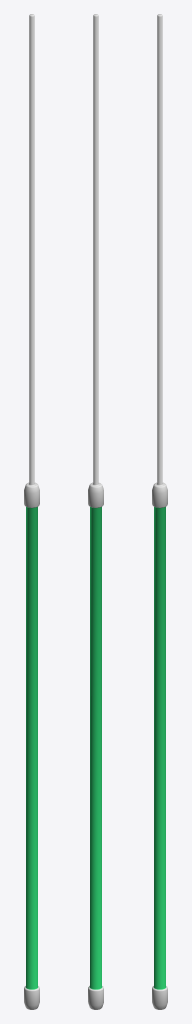
The model's file is Neon_002.fbx.
3 views of the same model, side by side, from view 1: azimuth 90°, elevation 25°; view 2: azimuth 150°, elevation 25°; view 3: azimuth 270°, elevation 25° (orthographic).
Parts seen in each view (by area): view 1: Neon_002; view 2: Neon_002; view 3: Neon_002.
Boxes of the visible parts, x1=… form: Neon_002: x1=24, y1=14, x2=39, y2=1009; Neon_002: x1=88, y1=14, x2=103, y2=1009; Neon_002: x1=152, y1=14, x2=167, y2=1009.
Size of the model in its own units: 0.0391 by 2.68 by 0.0391.
